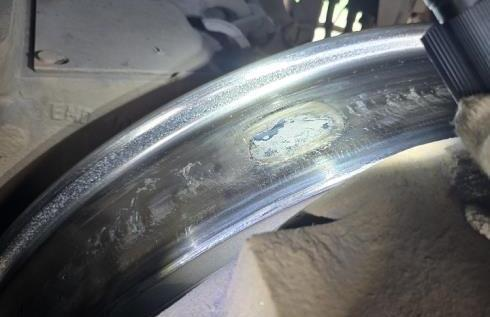Discoloration: (245, 100, 345, 166)
